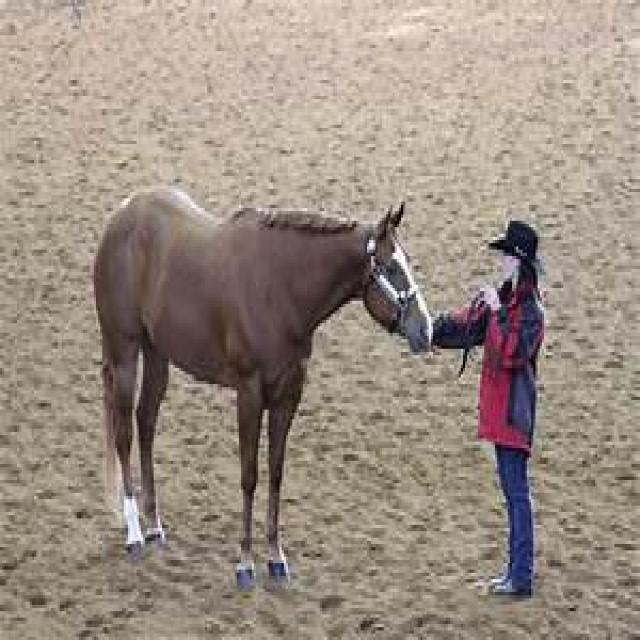animal: (92, 182, 433, 589)
